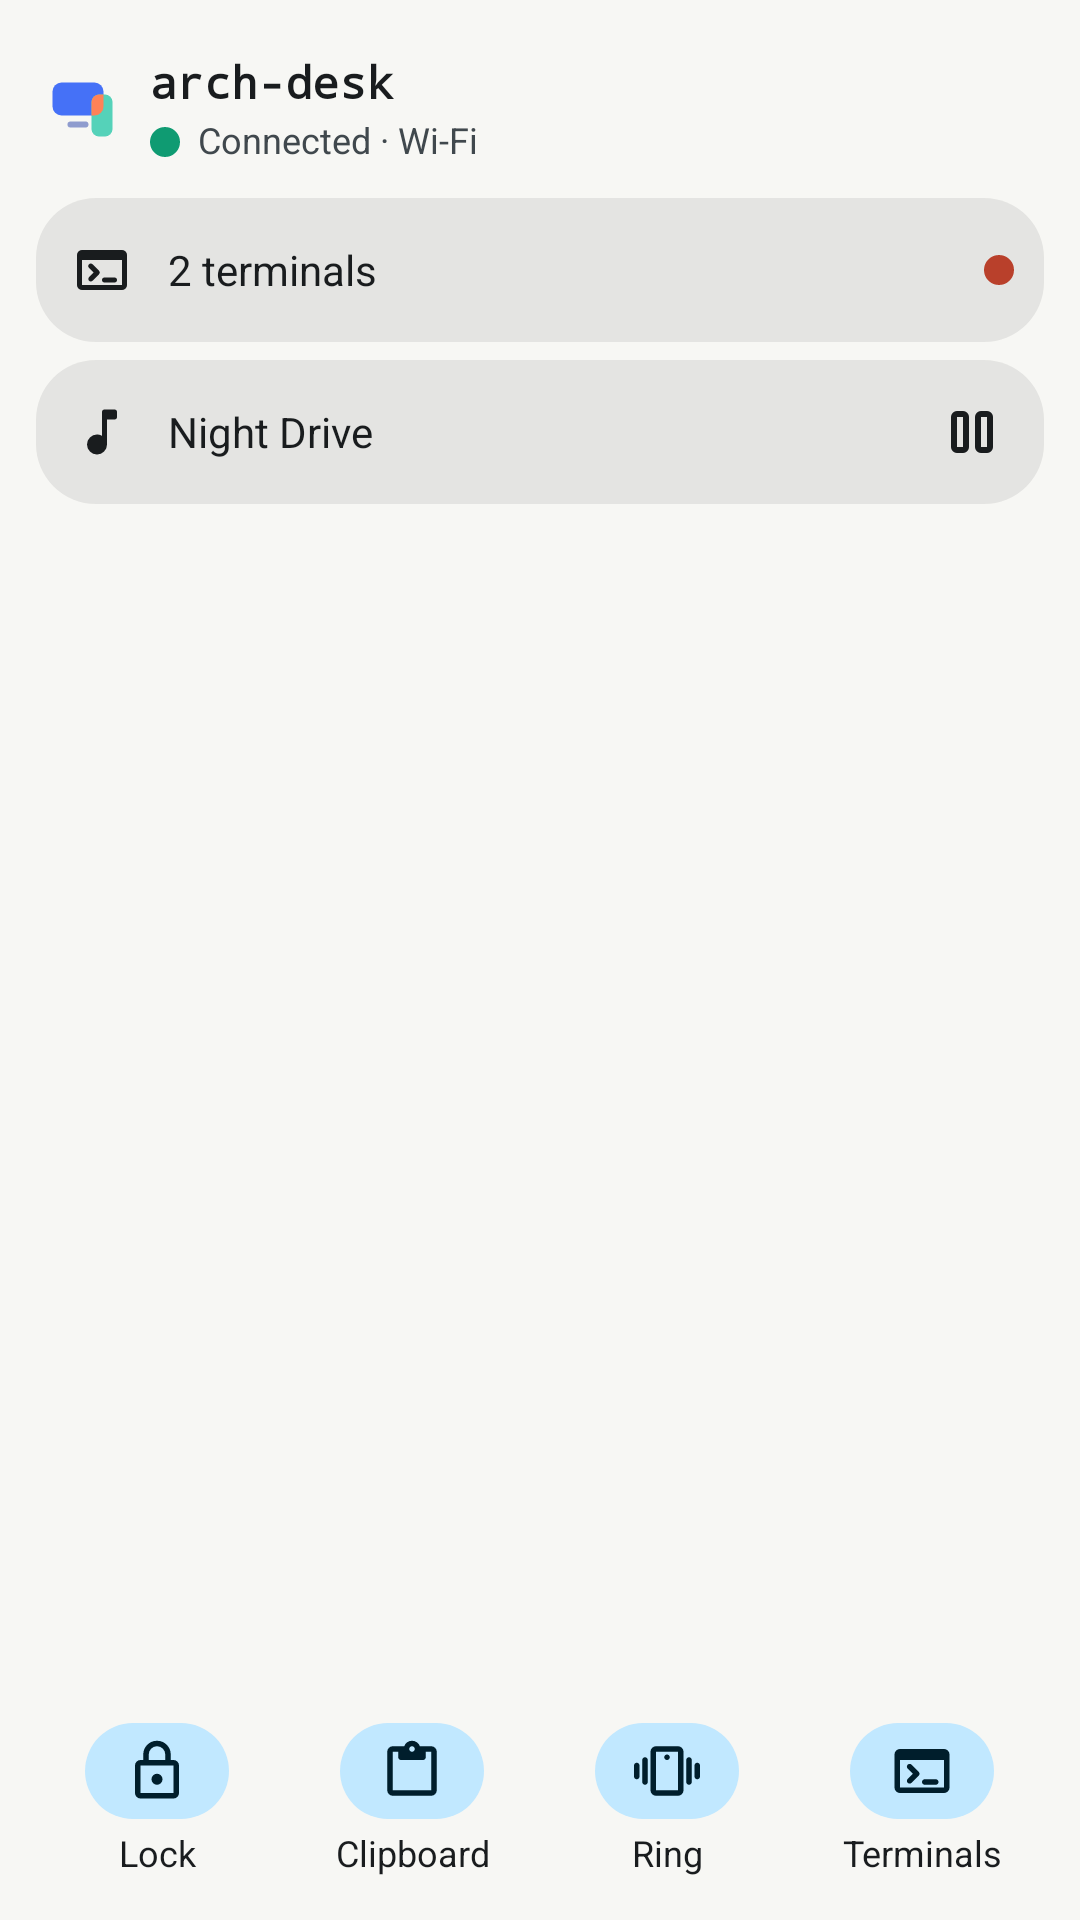

Icons on this 1080x1920 Android screen, each with its box as (x1, y1, x2, y2):
desklink mark: (52, 82, 113, 137)
Pause: (951, 411, 993, 453)
sym music note: (87, 409, 117, 455)
sym vibration: (595, 1723, 739, 1819)
